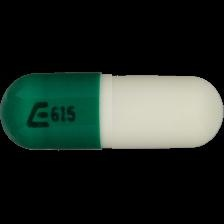61786-446: (0, 0, 224, 224)
